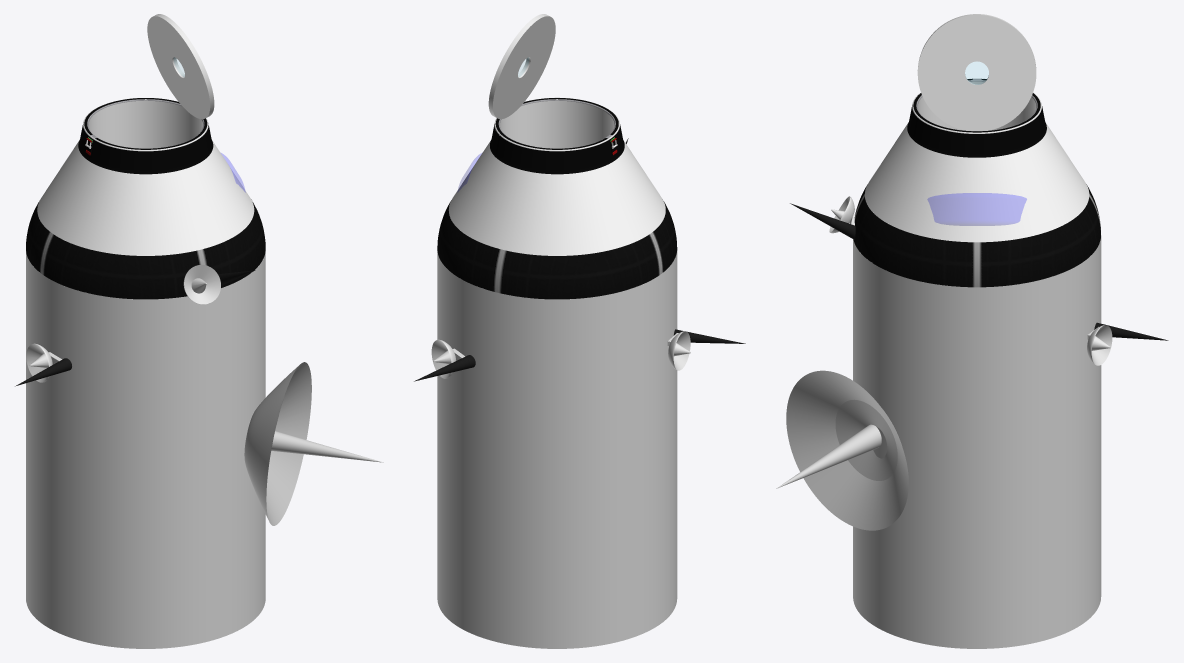
The model's file is command.glb.
3 renders of one model, left to right at view 1: azimuth 30°, elevation 25°; view 2: azimuth 150°, elevation 25°; view 3: azimuth 270°, elevation 25°, orthographic. The views are drawn at different scales.
Bounding box in the file's own units: 0.0553 × 0.1006 × 0.0605.
22 materials, 5 textured.
